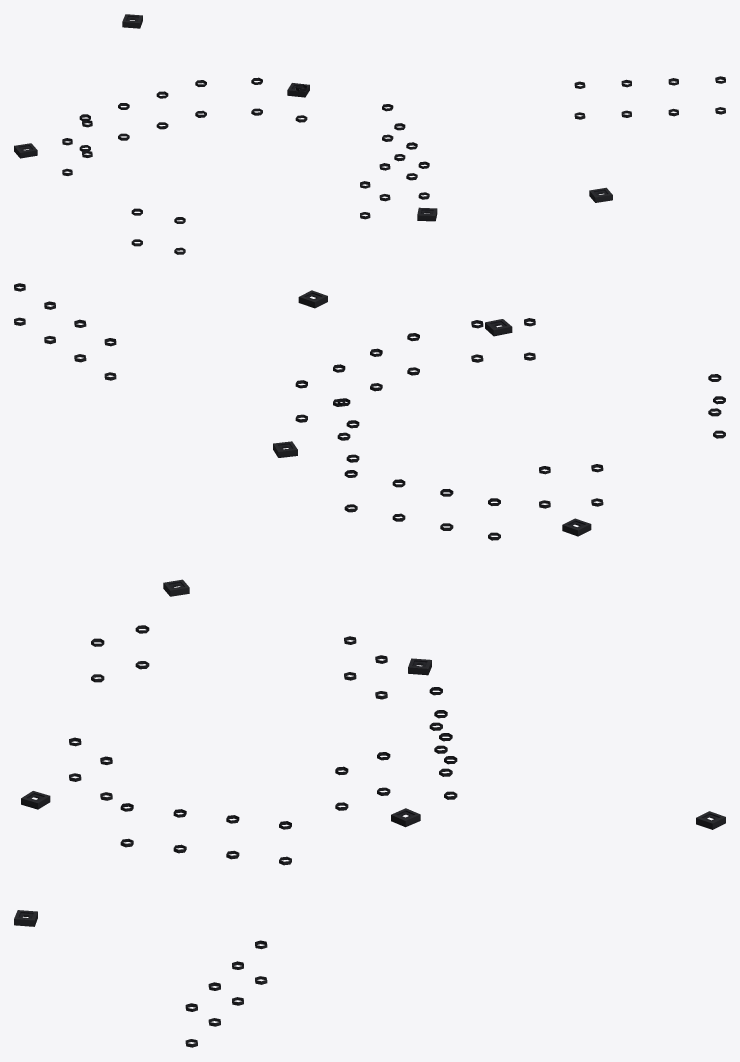
Rendered from Ground_03.FBX.
The picture shows the model from 3 angles, top to bottom: view 1: azimuth 30°, elevation 25°; view 2: azimuth 150°, elevation 25°; view 3: azimuth 270°, elevation 25°; orthographic projection. The views are drawn at different scales.
Parts seen in each view (by area): view 1: Ground_03; view 2: Ground_03; view 3: Ground_03.
Part boxes in pixels (x1,y1,x2,y2): Ground_03: (14, 14, 725, 254); Ground_03: (14, 283, 725, 596); Ground_03: (14, 625, 725, 1047).
Size of the model in its own units: 43.78 by 4.39 by 37.91.
